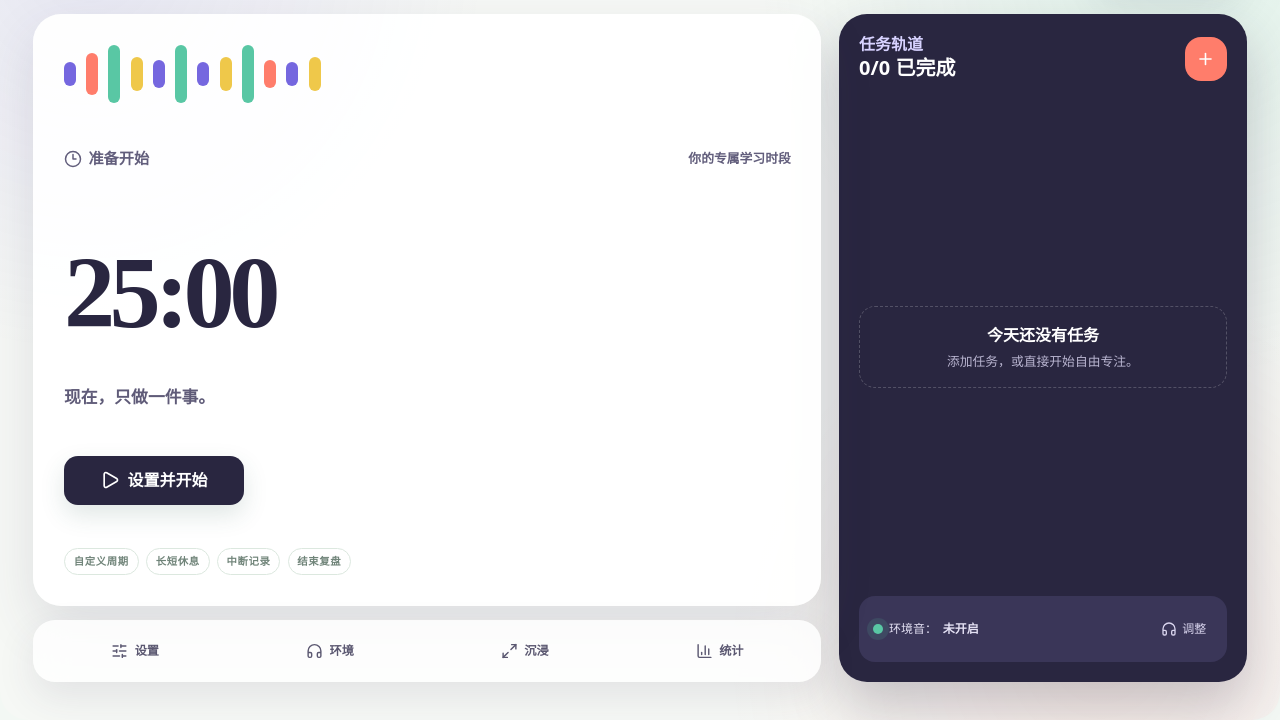
Test: puts the timer before today's tasks and removes decorative journey cards
The image size is (1280, 720).
(page scrolled)
Step 1. Click the button with aria-label "专注设置" → point(135, 651), box [42, 629, 228, 673]
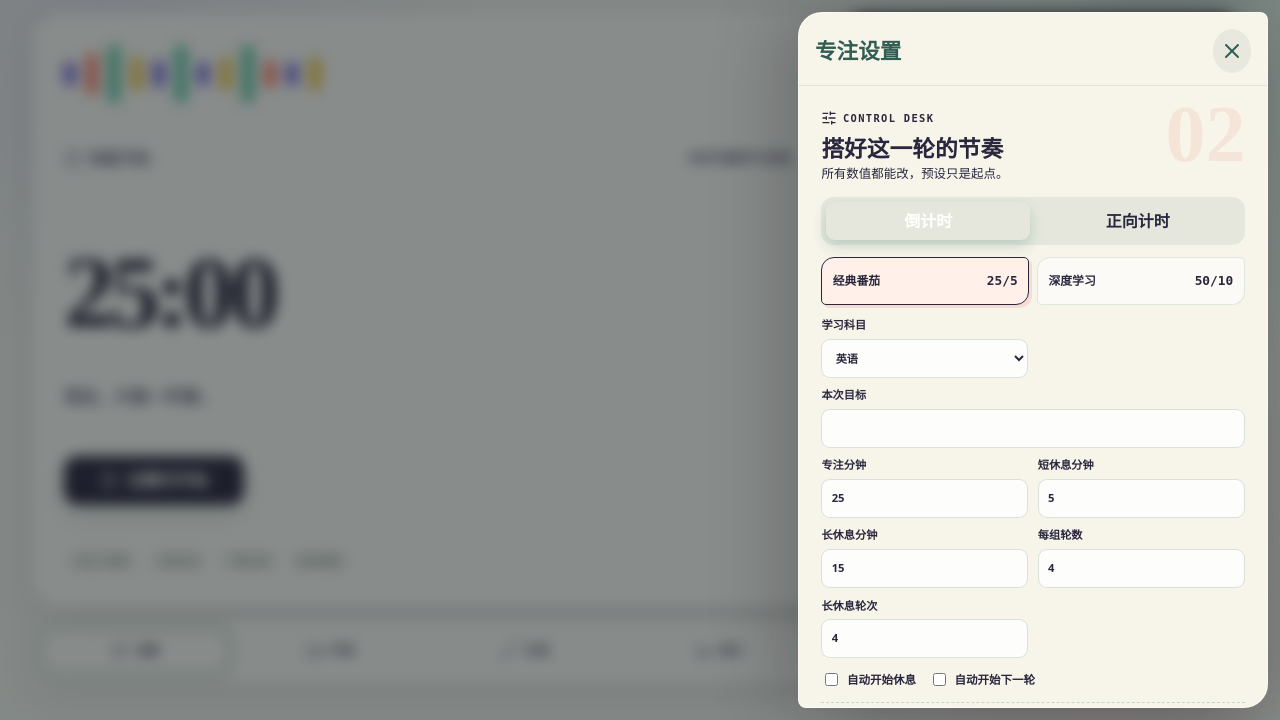
Now the dialog "专注设置" is shown, box [798, 12, 1268, 708]
Step 2. Click the button named "关闭" → point(1232, 51), box [1213, 29, 1251, 73]
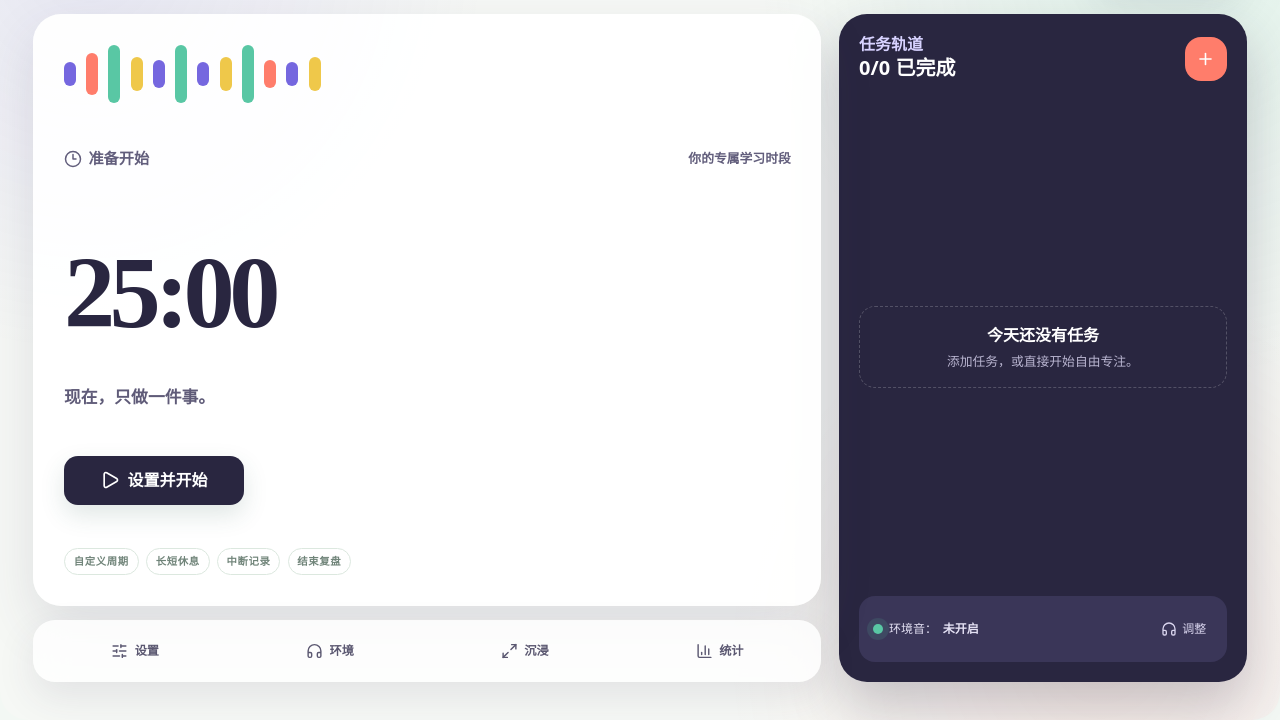
Step 3. Click the button with aria-label "专注环境" → point(330, 651), box [237, 629, 423, 673]
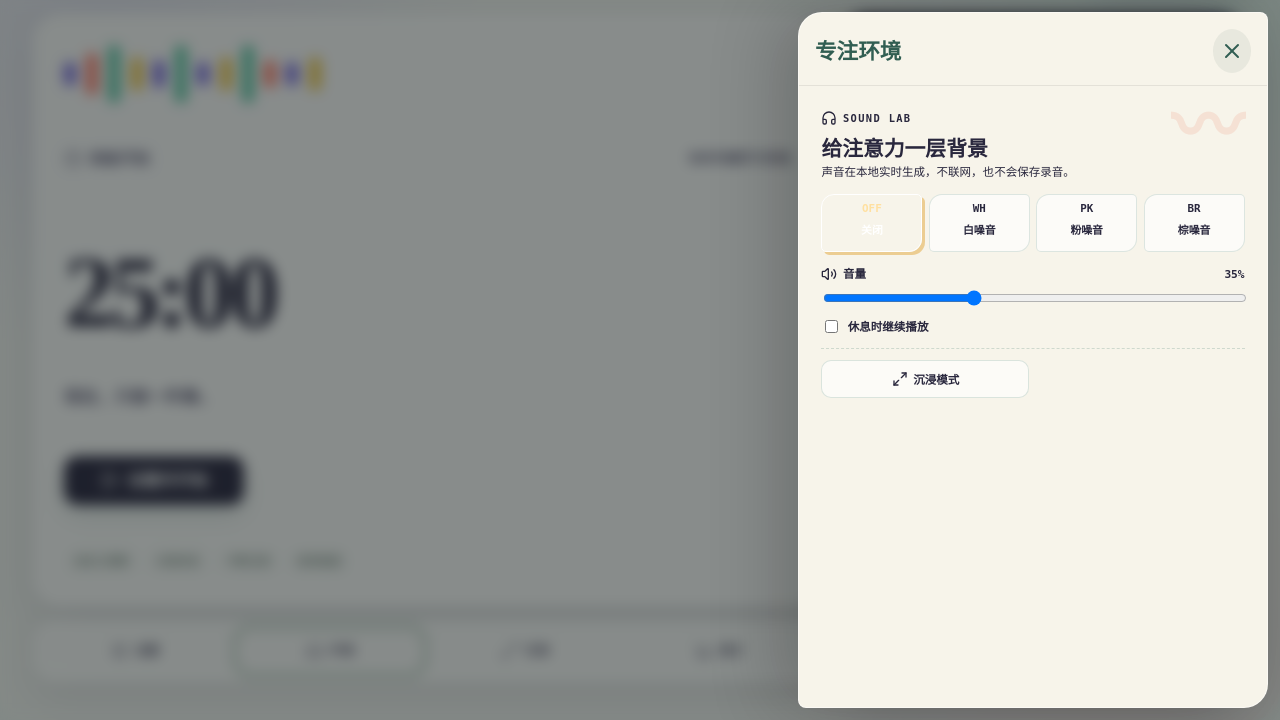
Now the dialog "专注环境" is shown, box [798, 12, 1268, 708]
